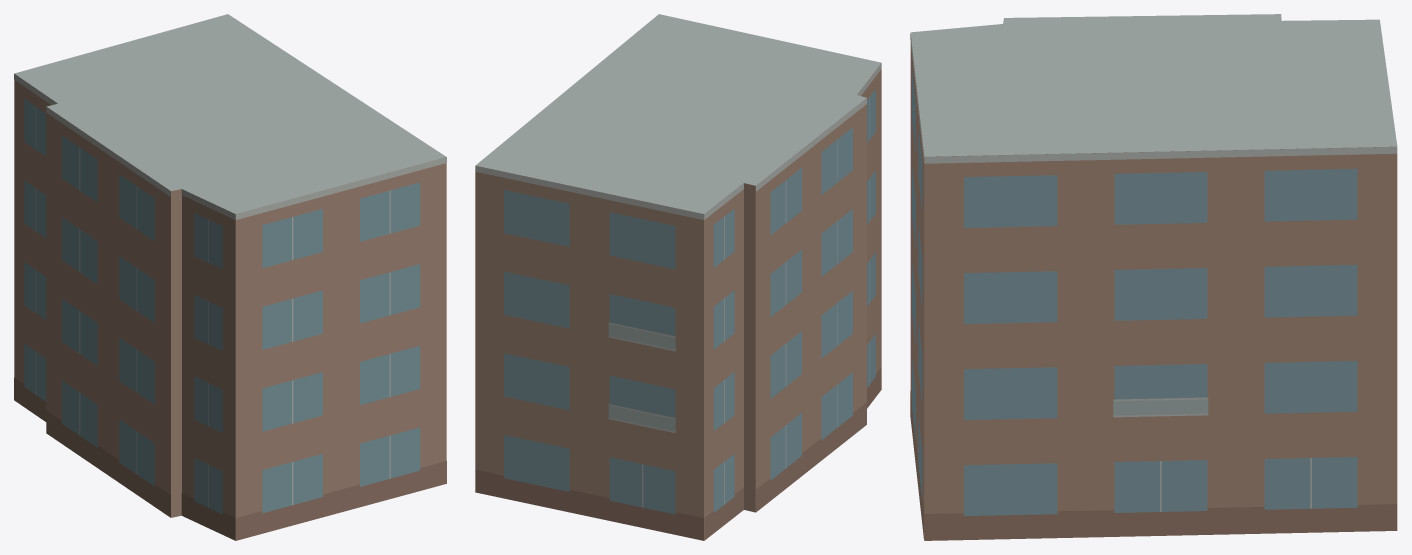
Rendered from survey-upis-32632419.glb.
3 views of the same model, side by side, from view 1: azimuth 30°, elevation 25°; view 2: azimuth 150°, elevation 25°; view 3: azimuth 270°, elevation 25° (orthographic). The views are drawn at different scales.
Visible parts, largest first — view 1: survey-upis-32632419.tmp; view 2: survey-upis-32632419.tmp; view 3: survey-upis-32632419.tmp.
Boxes of the visible parts, box(x1,y1,x2,y2) form: survey-upis-32632419.tmp: box(14, 14, 446, 540); survey-upis-32632419.tmp: box(475, 14, 881, 540); survey-upis-32632419.tmp: box(910, 14, 1397, 540).
Size of the model in its own units: 10.52 by 13.2 by 15.17.
